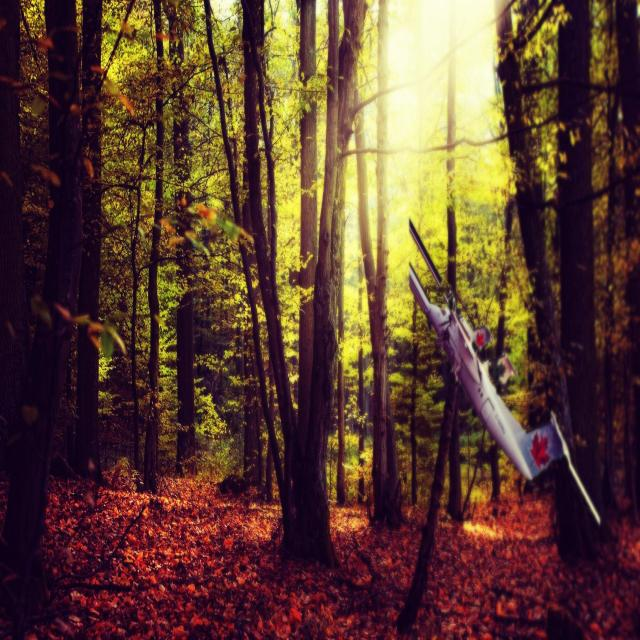airplane: (408, 218, 602, 526)
